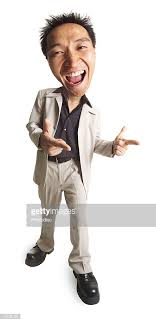asian_male: (44, 9, 108, 87)
